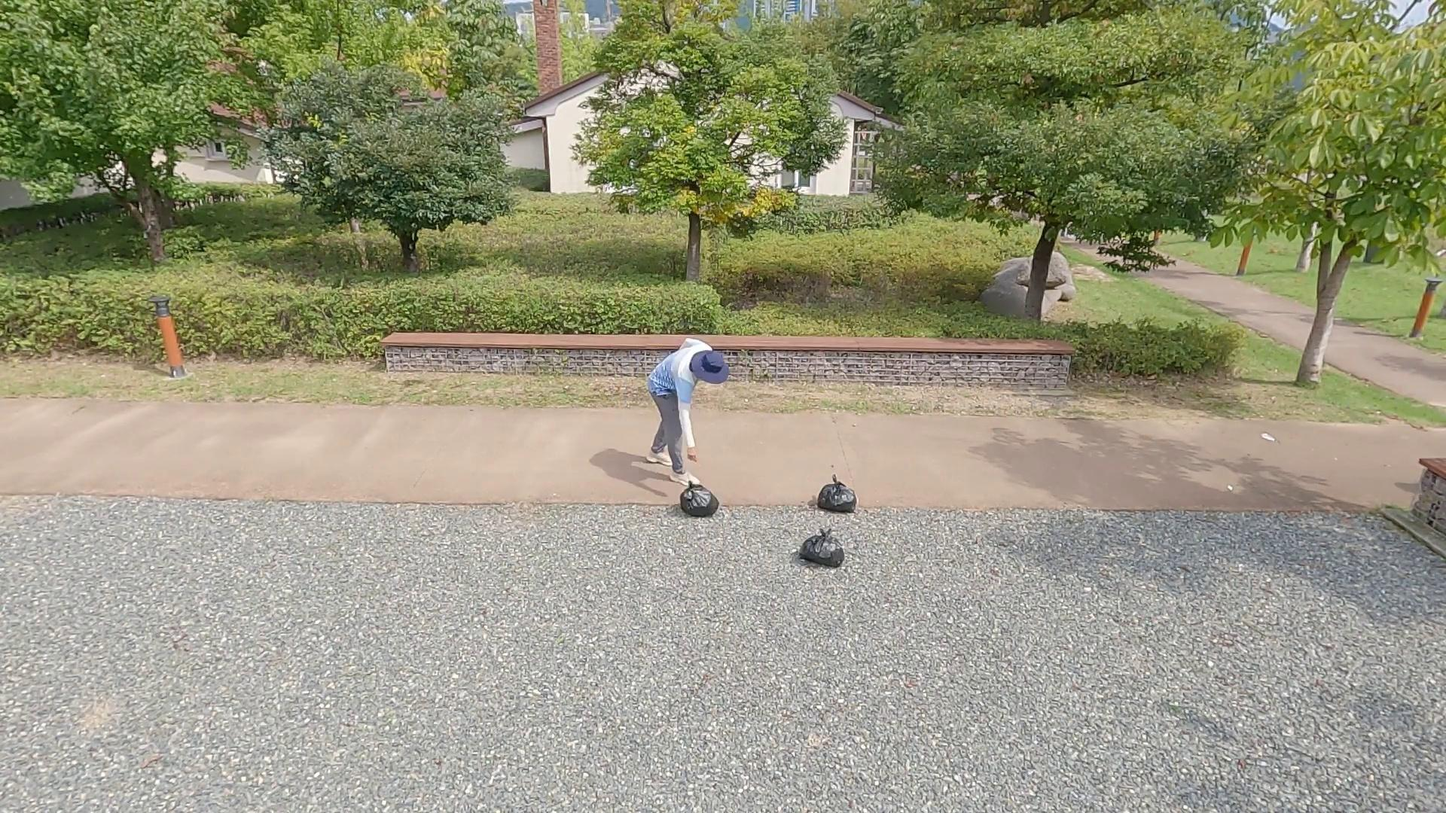person: (648, 335, 726, 488)
trash: (802, 523, 845, 573), (814, 473, 859, 517), (679, 474, 722, 519)
